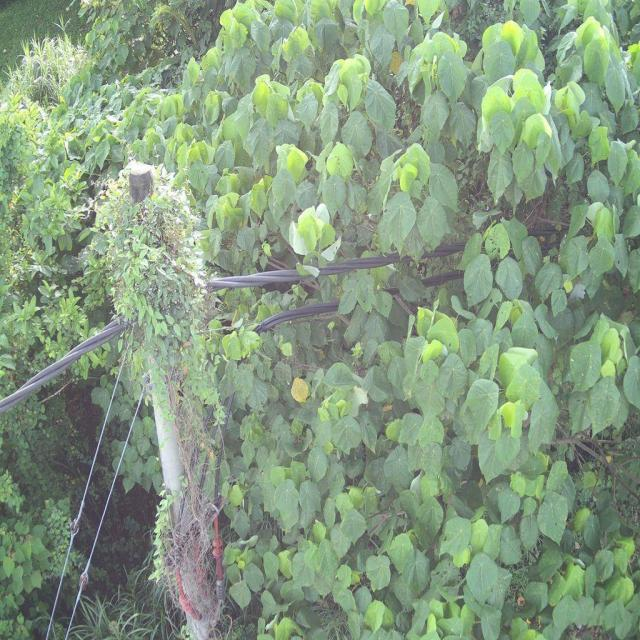critical vegetation: (88, 154, 244, 621)
